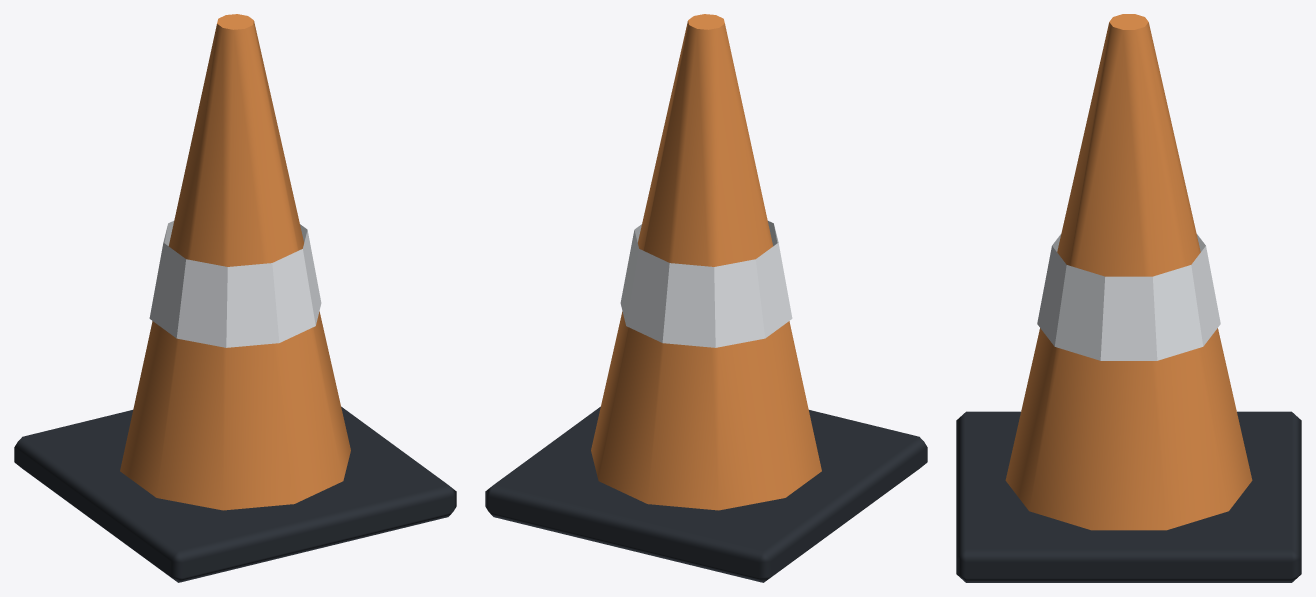
File: CM_Event_TrafficCone.fbx
The picture shows the model from 3 angles, left to right: view 1: azimuth 30°, elevation 25°; view 2: azimuth 150°, elevation 25°; view 3: azimuth 270°, elevation 25°; orthographic projection. The views are drawn at different scales.
Visible parts, largest first — view 1: Body; view 2: Body; view 3: Body.
Part boxes in pixels (x1=…): Body: x1=14, y1=14, x2=456, y2=582; Body: x1=485, y1=14, x2=927, y2=582; Body: x1=956, y1=14, x2=1301, y2=582.
Size of the model in its own units: 1.4 by 1.4 by 2.2.
Materials: 1 (1 with a texture image).
